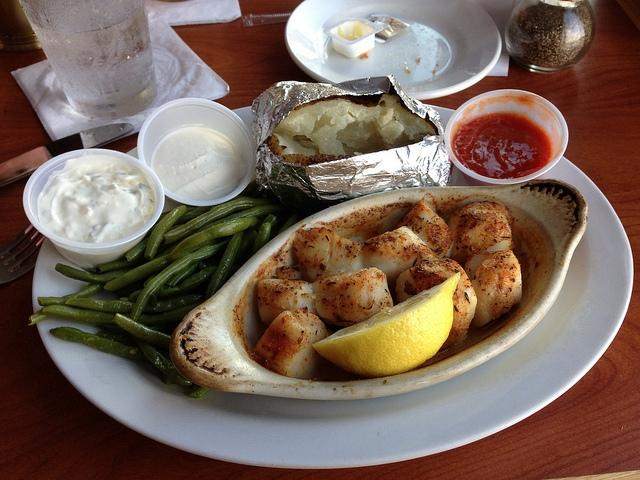lemon: (312, 271, 462, 379)
potato: (264, 85, 438, 164)
